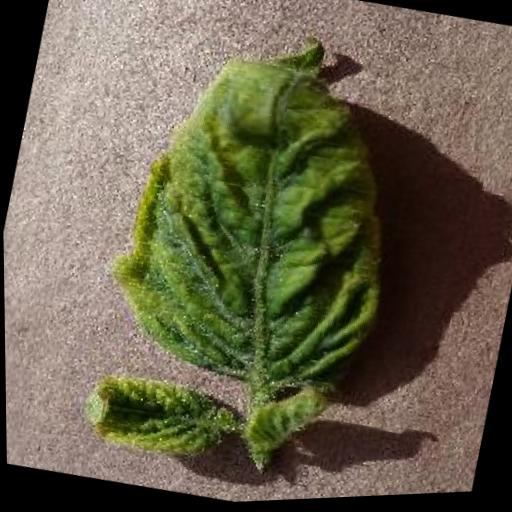Yellow Leaf Curl Virus: (85, 2, 434, 414), (74, 361, 236, 474)
